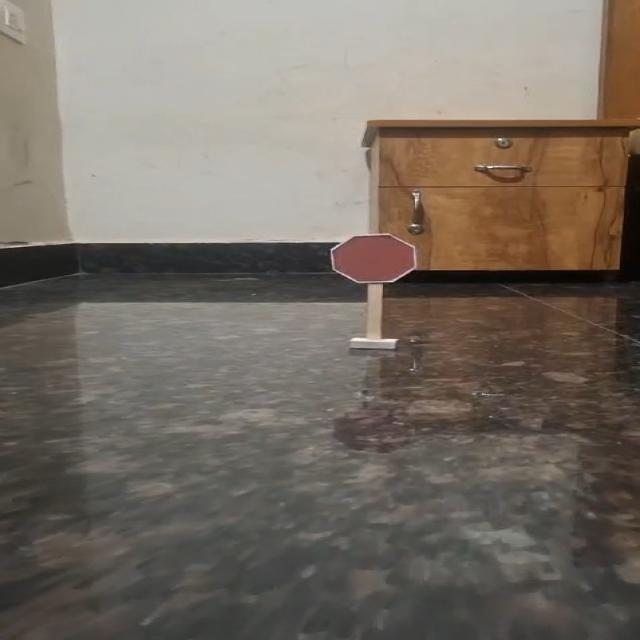Stop: (320, 230, 426, 288)
